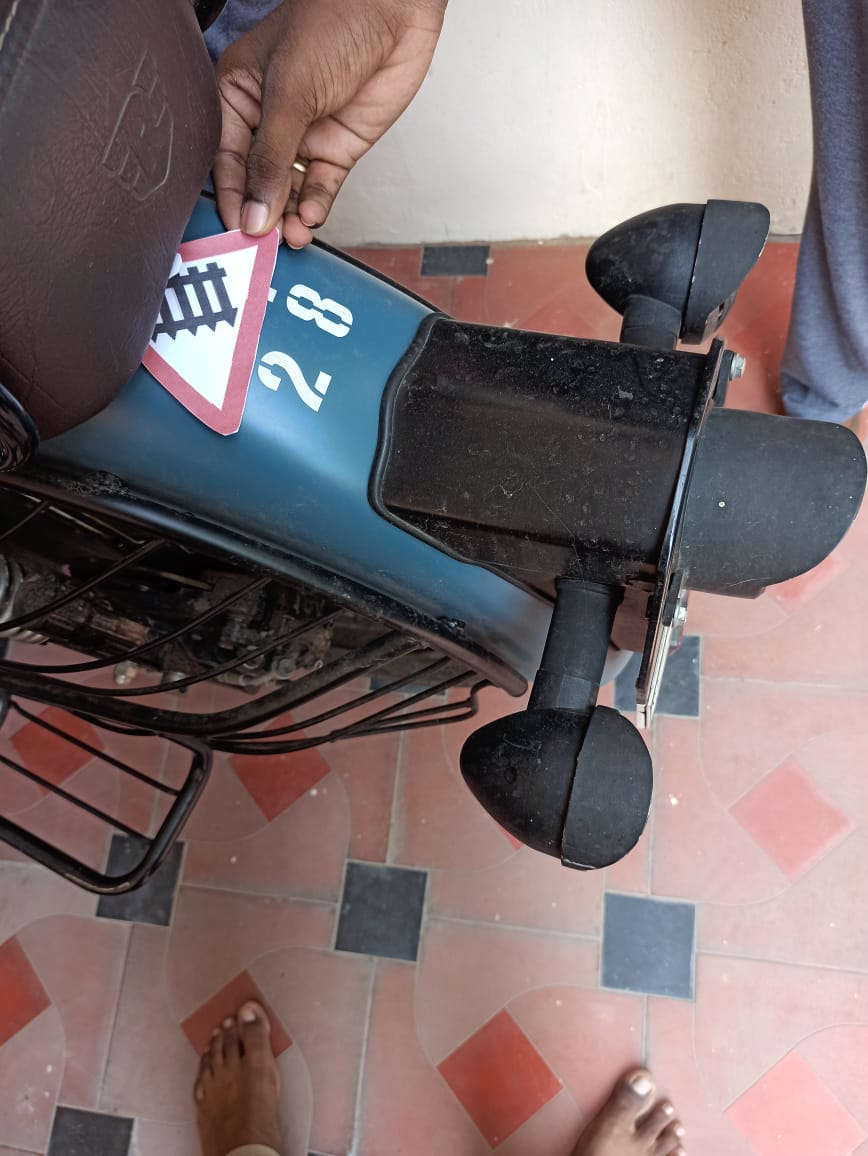GUARDED LEVEL CROSSING: (134, 195, 293, 442)
